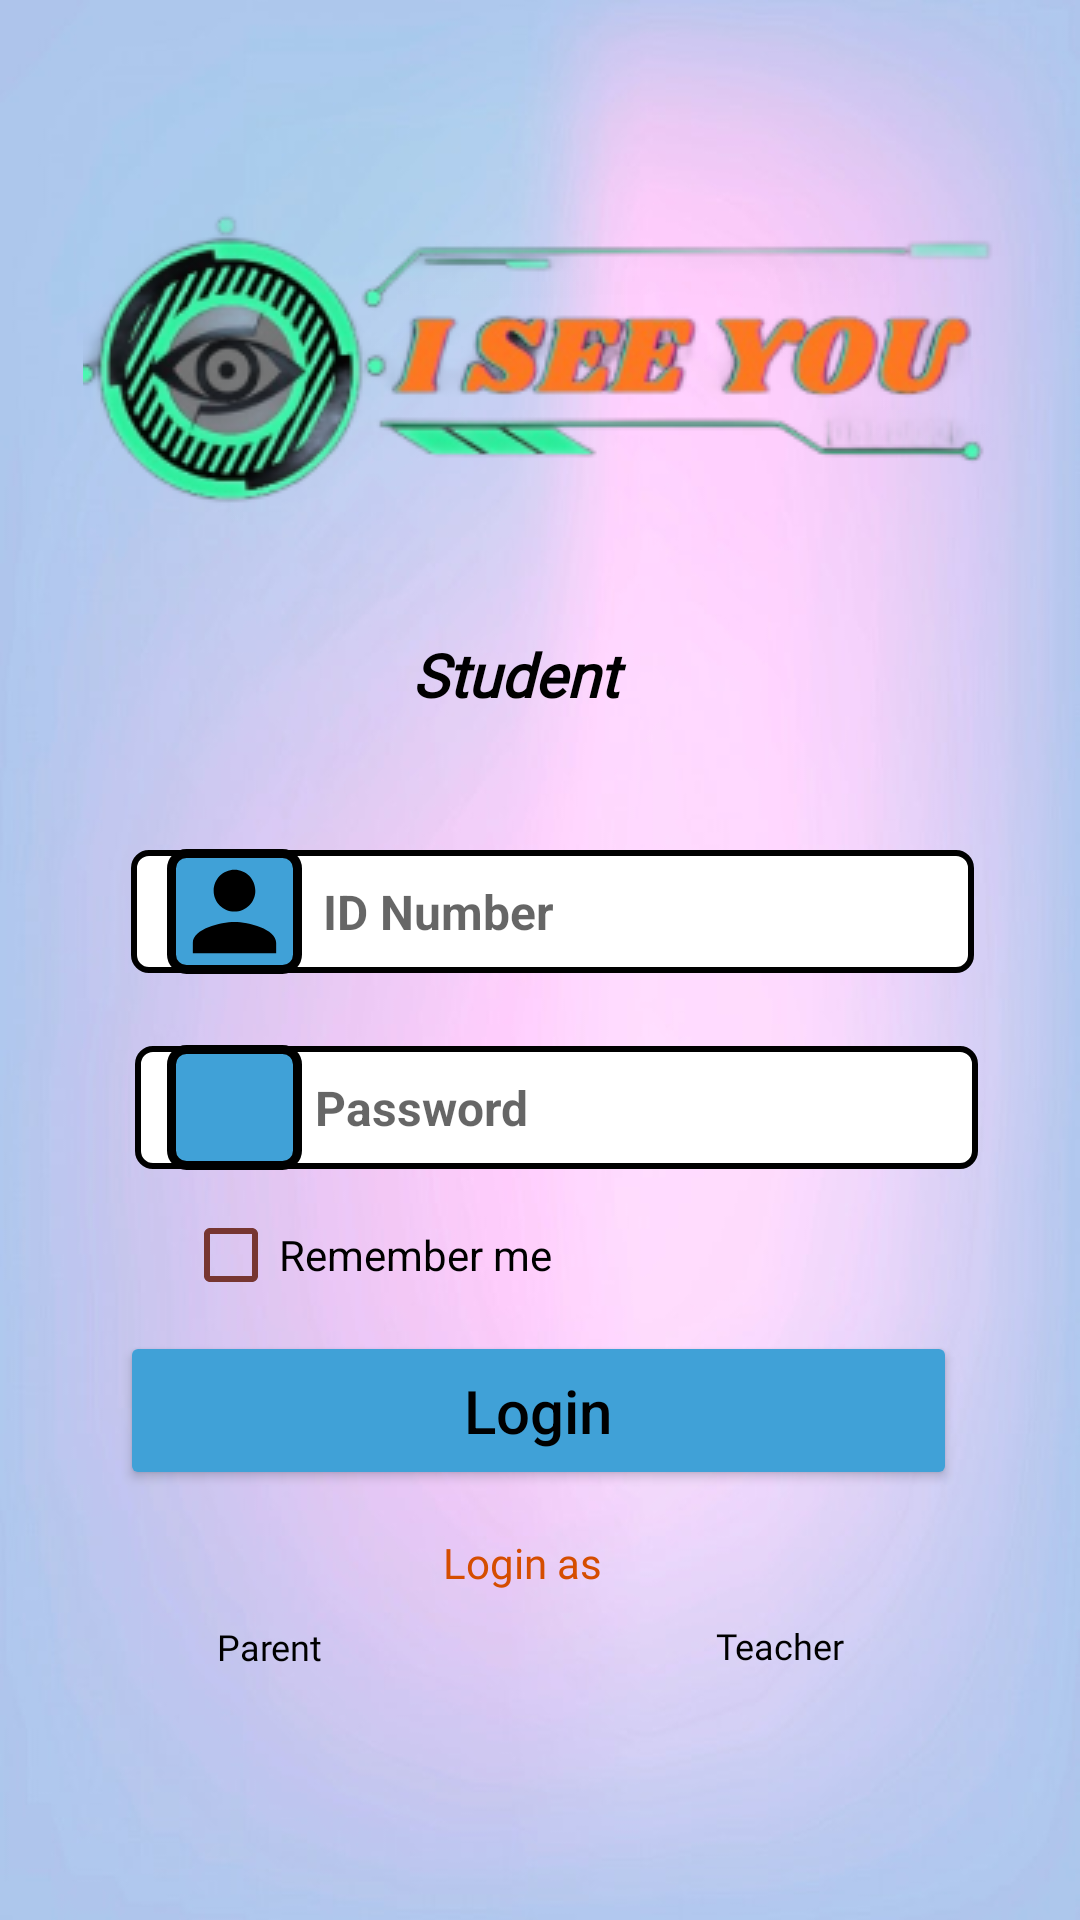

Icons on this 1080*1920 Android screen, each with the point to tap as [x,y]:
person: [234,911]
